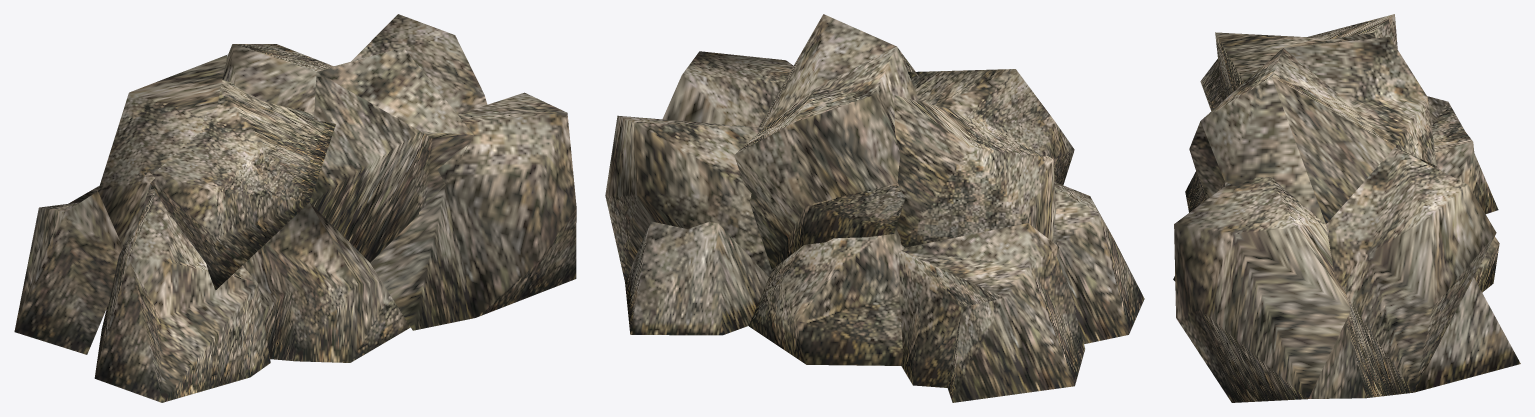
File: idle.glb
The picture shows the model from 3 angles, left to right: view 1: azimuth 30°, elevation 25°; view 2: azimuth 150°, elevation 25°; view 3: azimuth 270°, elevation 25°; orthographic projection. The views are drawn at different scales.
Visible parts, largest first — view 1: MeshRoot; view 2: MeshRoot; view 3: MeshRoot.
Part boxes in pixels (x1=…): MeshRoot: x1=14, y1=14, x2=576, y2=402; MeshRoot: x1=605, y1=14, x2=1144, y2=402; MeshRoot: x1=1173, y1=14, x2=1520, y2=402.
Size of the model in its own units: 8.38 by 4.27 by 5.36.
1 material, 1 textured.
